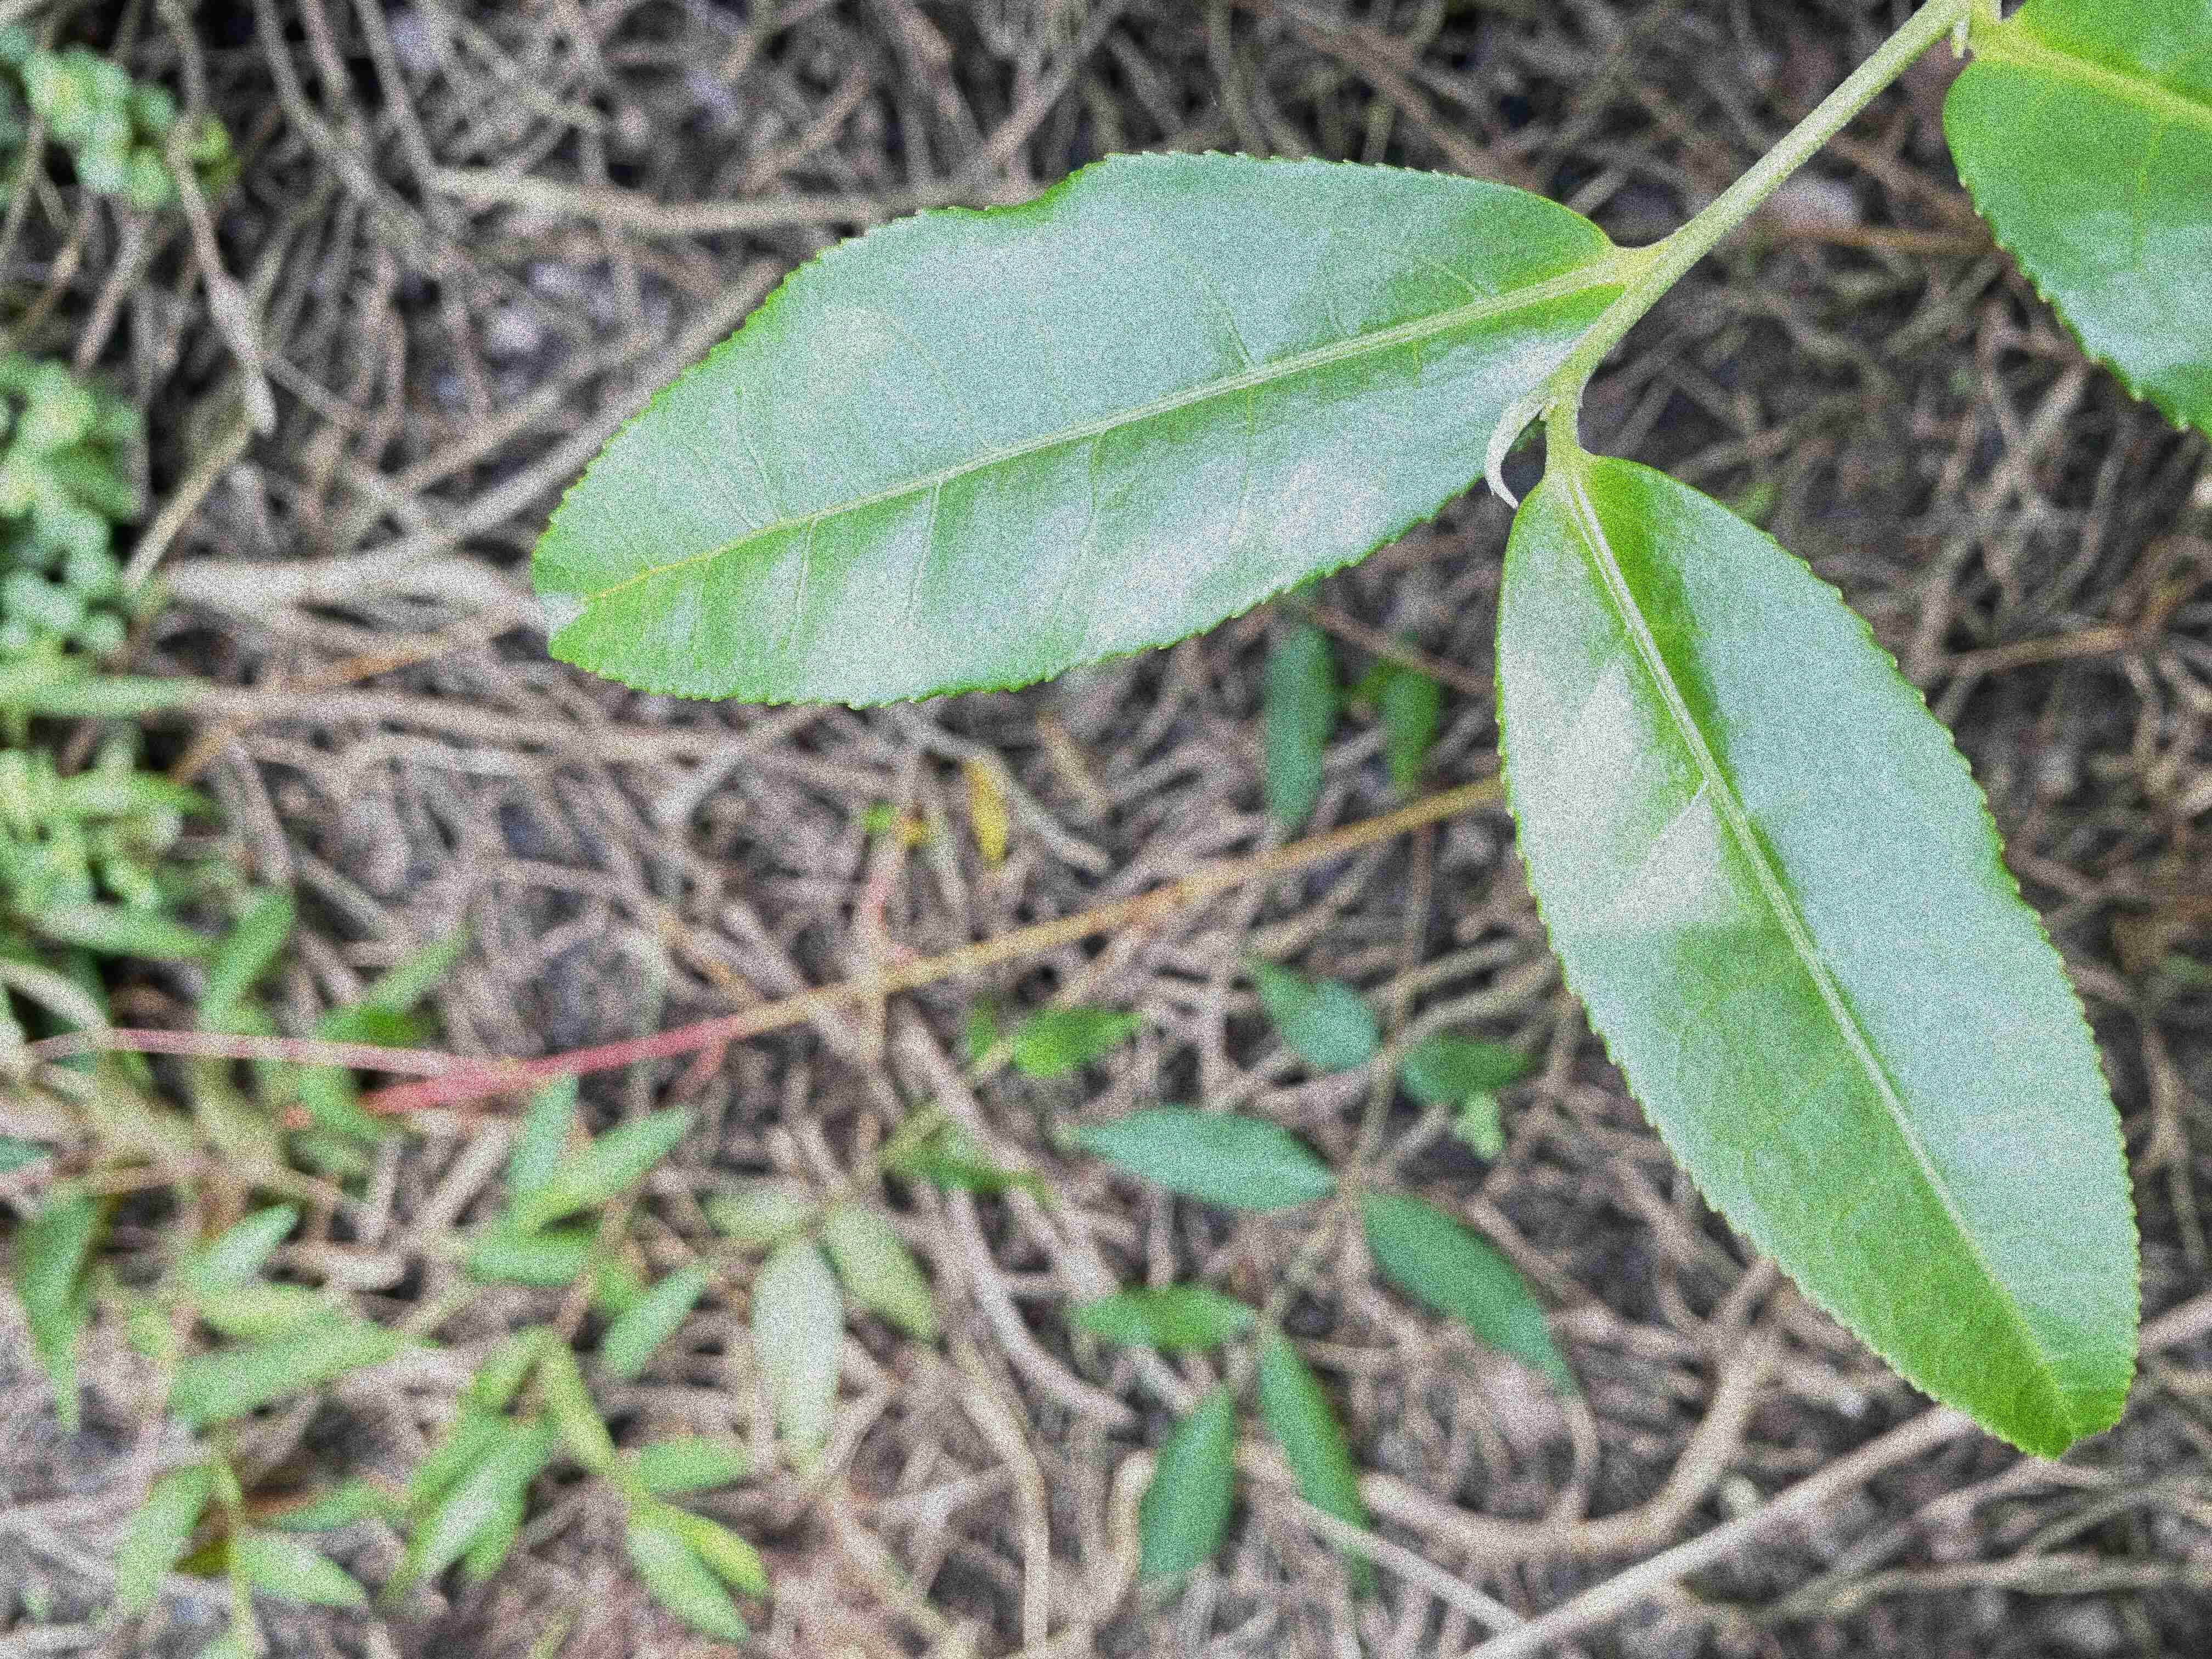healthy: (1493, 458, 2144, 1462), (524, 145, 1622, 711)
